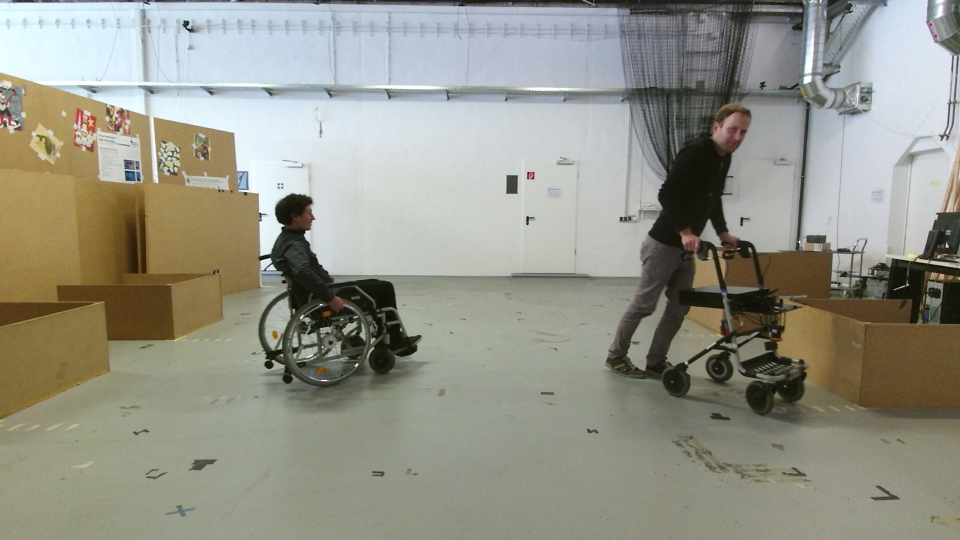wheelchair: (251, 185, 425, 395)
